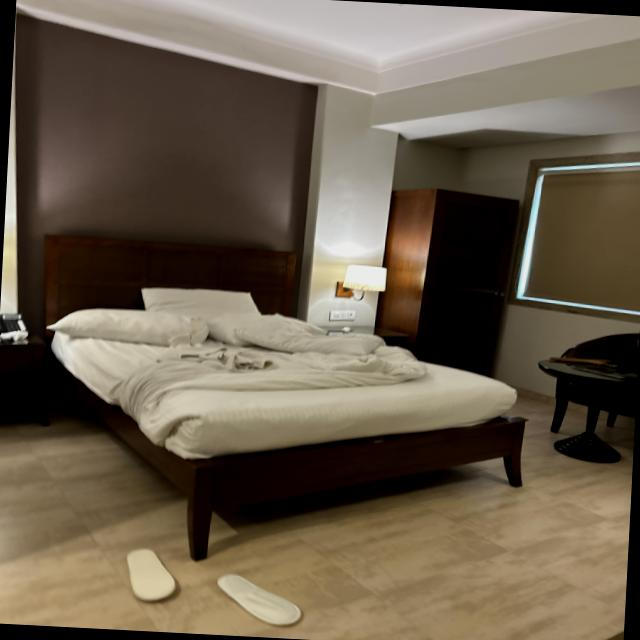mess: (66, 298, 538, 442), (52, 522, 394, 636)
